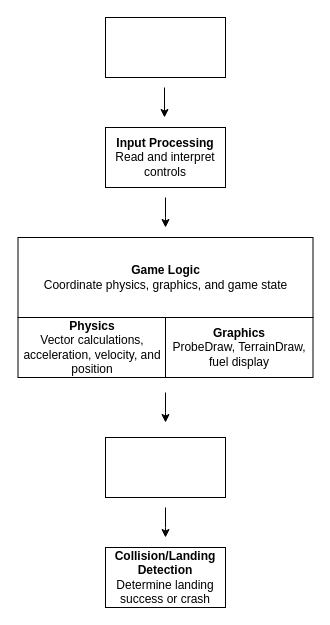
Image size: 330x625. Some labels were removed from this diagram. Here are the shapes that lost their labels. From the top down, the centre of each, then its label:
(x=165, y=47): User Input Thrust + Tilt Controls w/ Arrow Keys
(x=165, y=467): Game Display Lander, terrain, fuel, and game status
